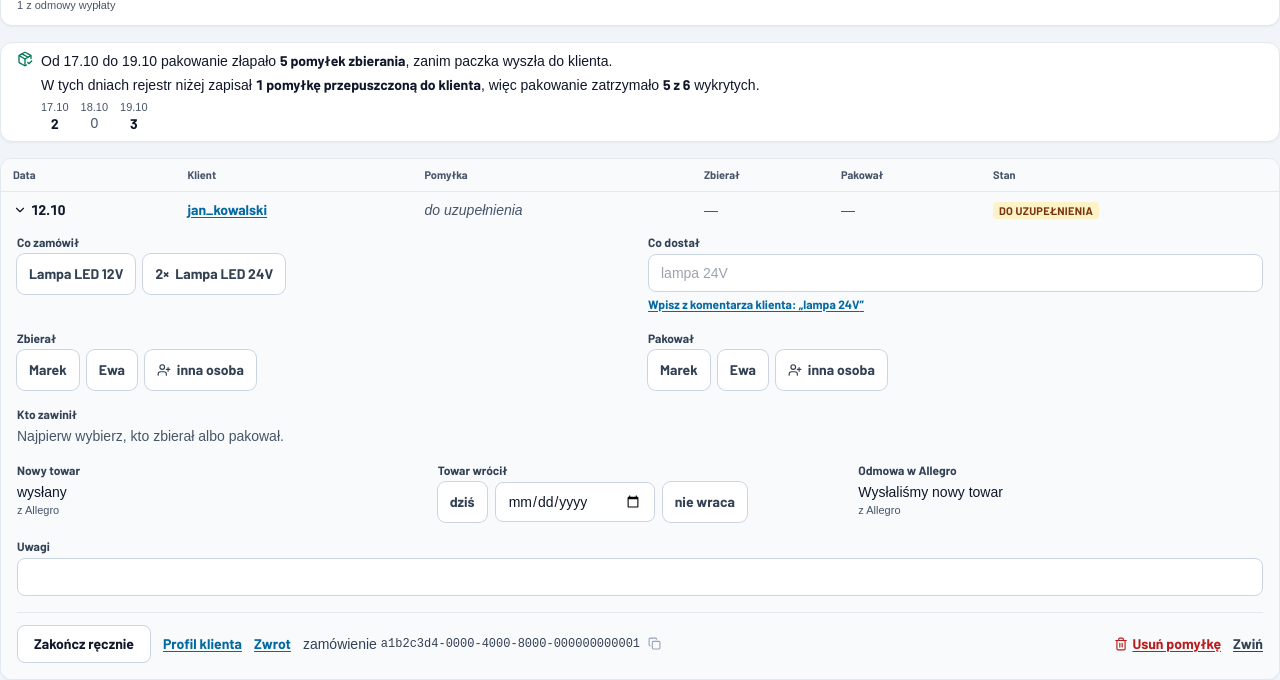
Test: rejestr pomyłek › usunięcie pyta drugi raz, idzie z wersją i zwija wiersz
(page scrolled)
What coordinates should you click on to do the following:
click the button "Usuń pomyłkę"
I would click on:
 (1168, 644)
Its box is [1114,634,1221,654].
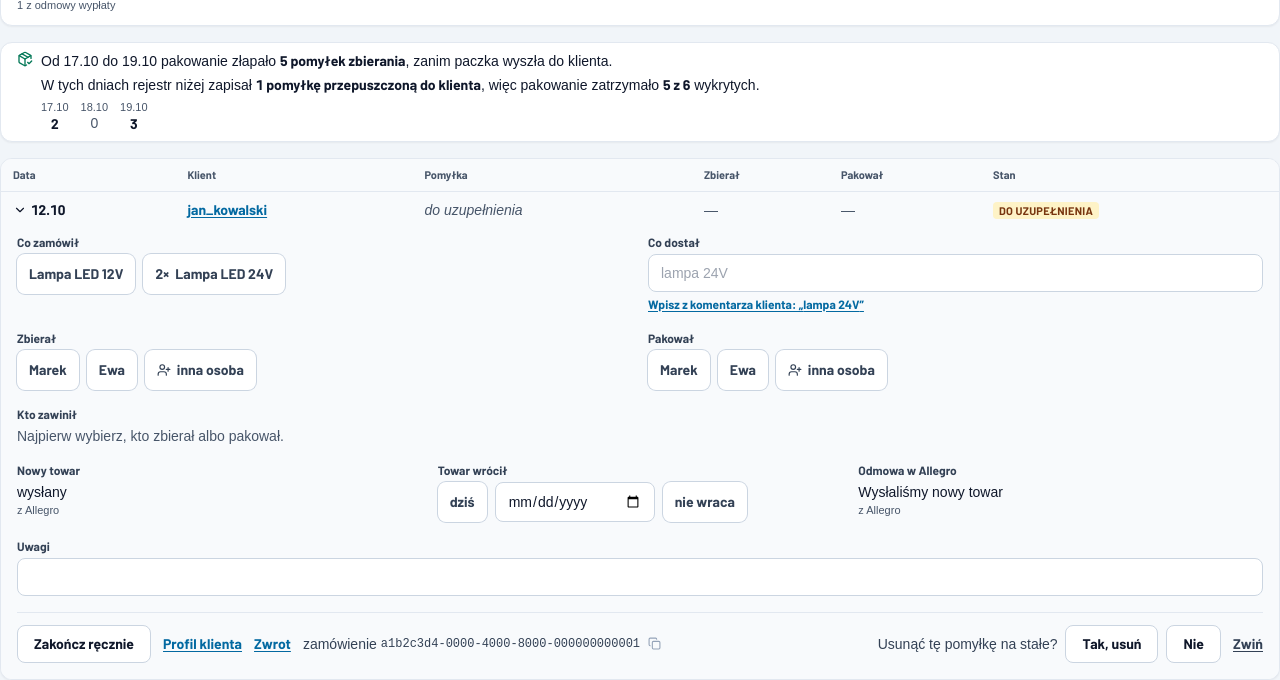
What coordinates should you click on to do the following:
click the button "Nie"
I would click on:
 (1194, 644)
Its box is [1166,624,1221,662].
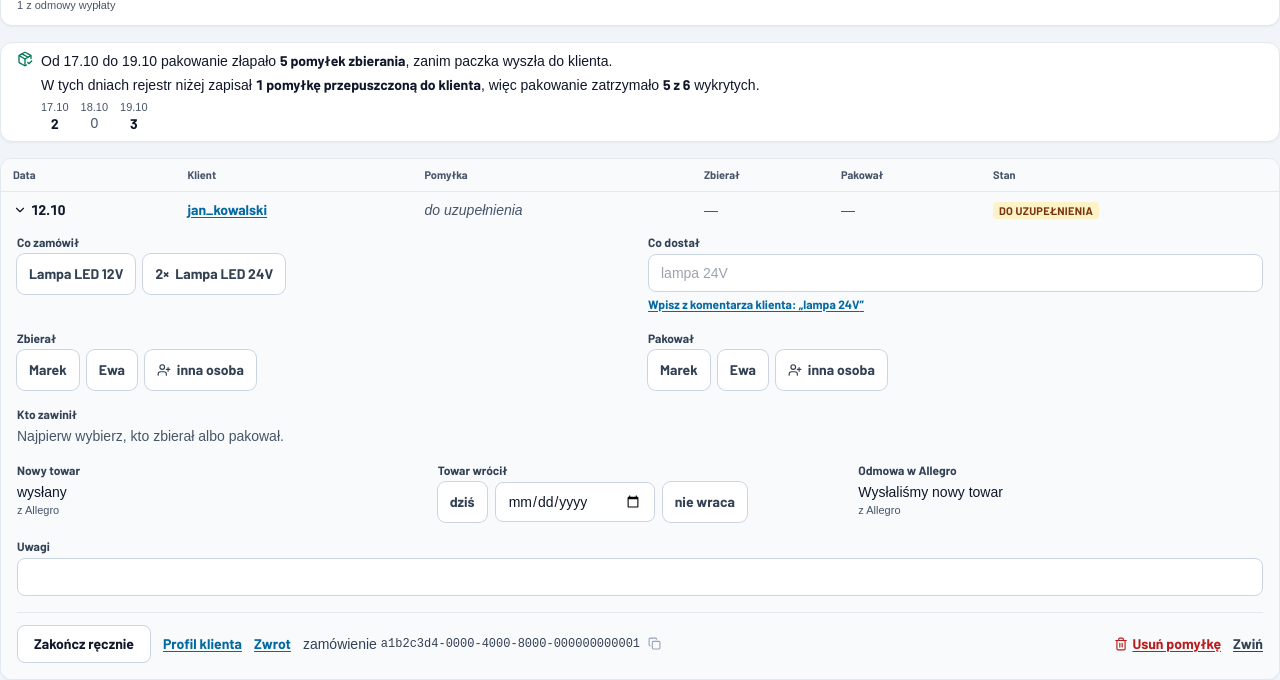
What coordinates should you click on to do the following:
click the button "Usuń pomyłkę"
I would click on:
 (1168, 644)
Its box is [1114,634,1221,654].
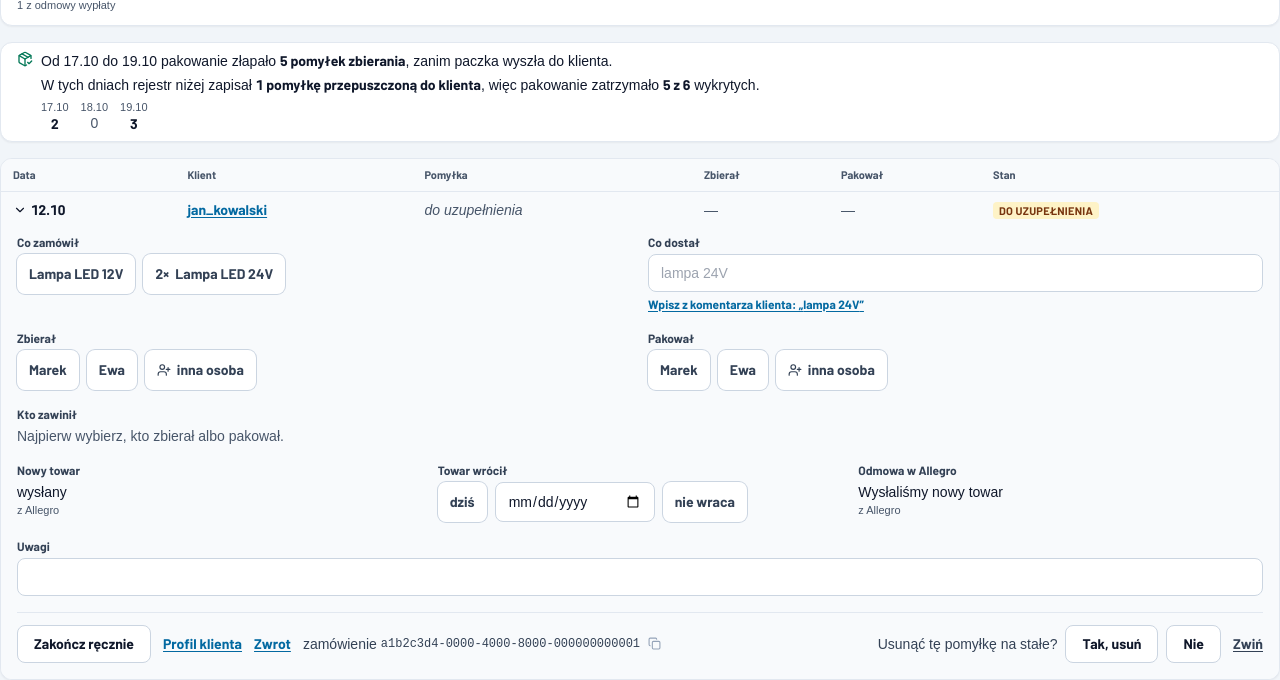
What coordinates should you click on to do the following:
click the button "Tak, usuń"
I would click on:
 (1112, 644)
Its box is [1066,624,1158,662].
(page scrolled)
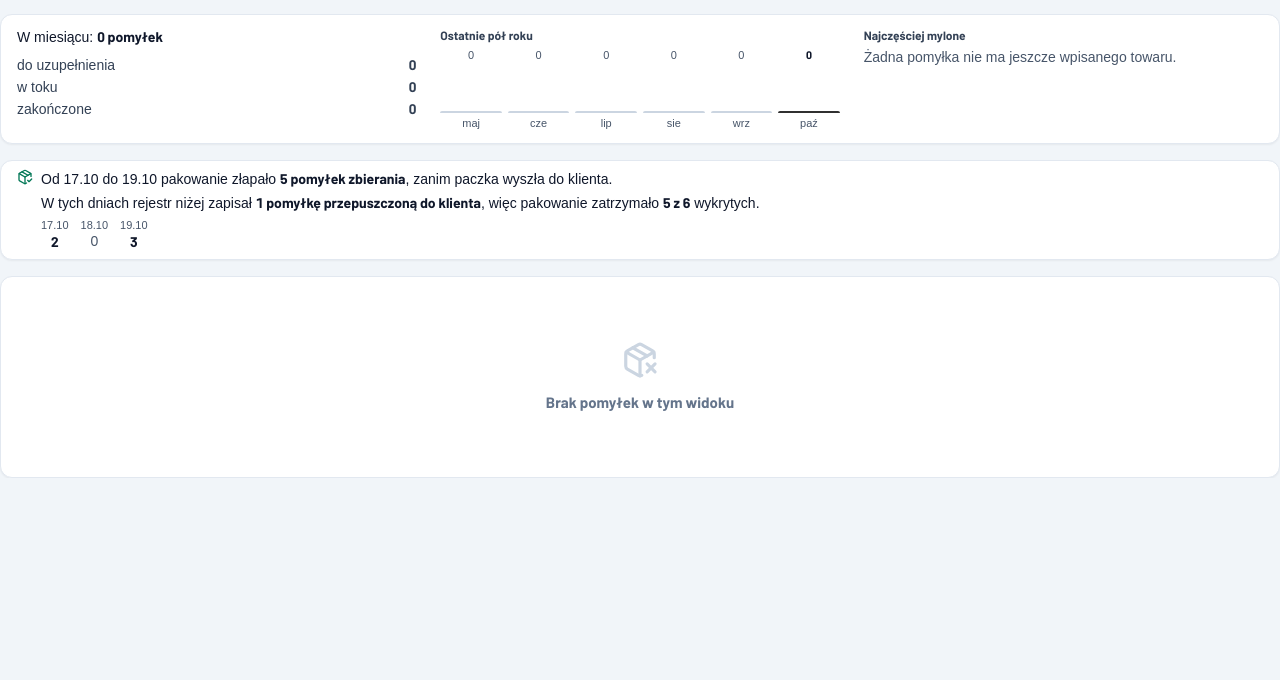
Expected: the column heading "Zbierał" is gone
Expected: the link "jan_kowalski" is gone
